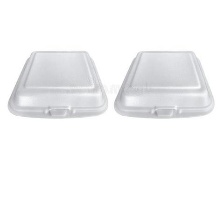foam_box: (110, 44, 217, 123), (3, 44, 110, 123)
